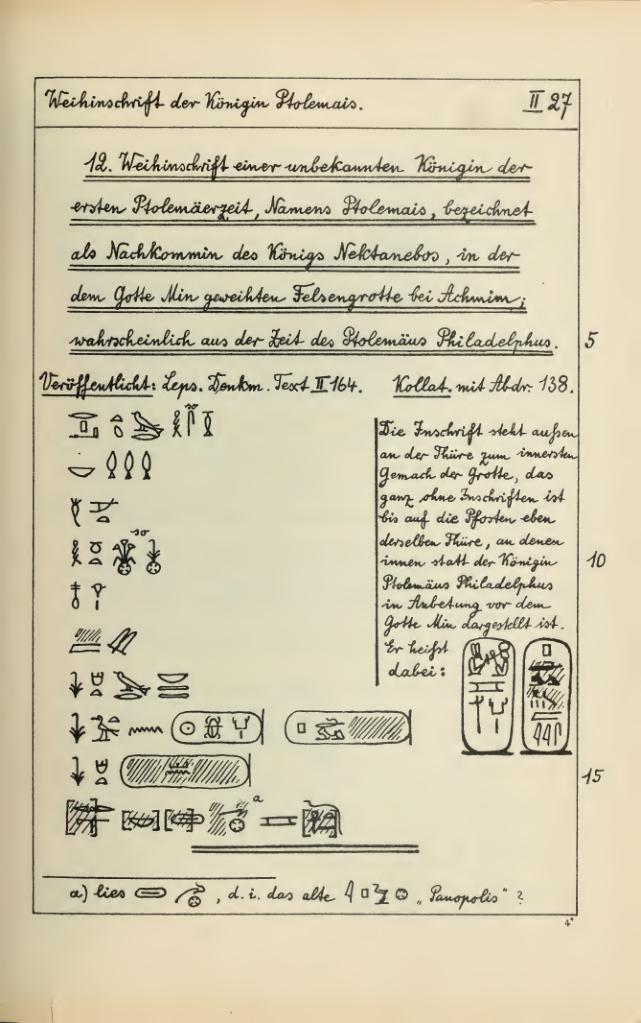circle: (274, 700, 422, 753), (517, 630, 575, 764), (459, 631, 516, 762), (114, 750, 264, 795), (157, 704, 276, 752)
